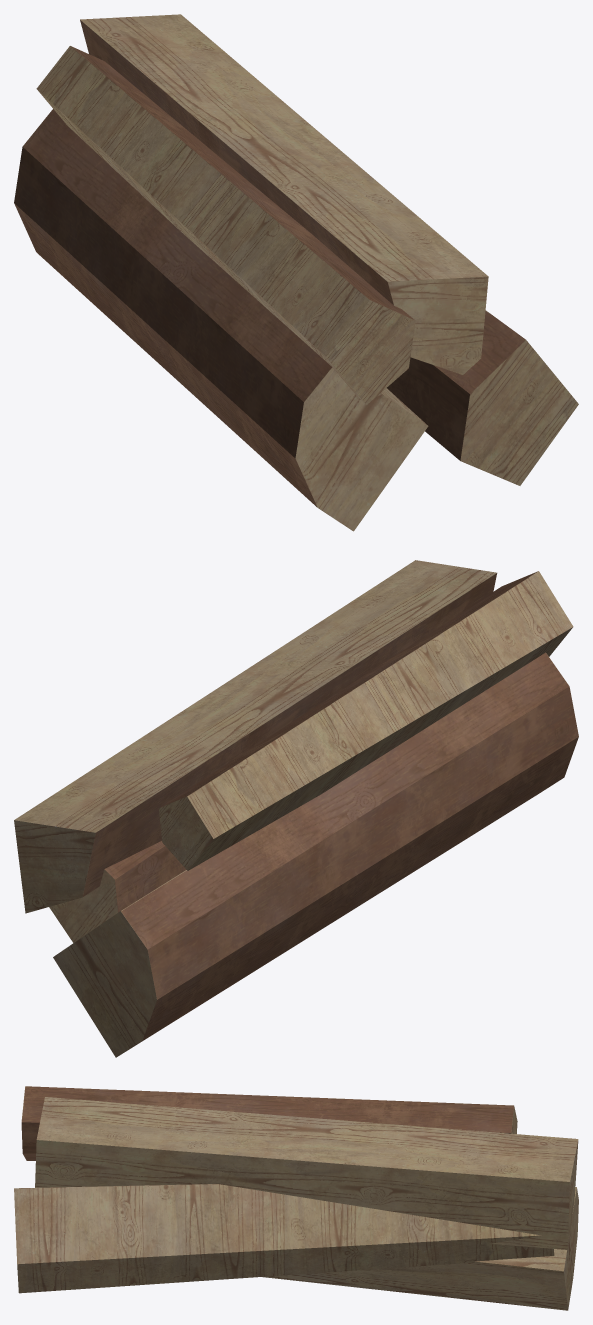
The model's file is Firewood_pid.fbx.
3 renders of one model, top to bottom at view 1: azimuth 30°, elevation 25°; view 2: azimuth 150°, elevation 25°; view 3: azimuth 270°, elevation 25°, orthographic. The views are drawn at different scales.
Visible parts, largest first — view 1: Firewood_pid; view 2: Firewood_pid; view 3: Firewood_pid.
Part boxes in pixels (x1,y1,x2,y2): Firewood_pid: (14, 14, 578, 531); Firewood_pid: (14, 560, 578, 1057); Firewood_pid: (14, 1086, 578, 1310).
Size of the model in its own units: 22.7 by 22.67 by 59.17.
